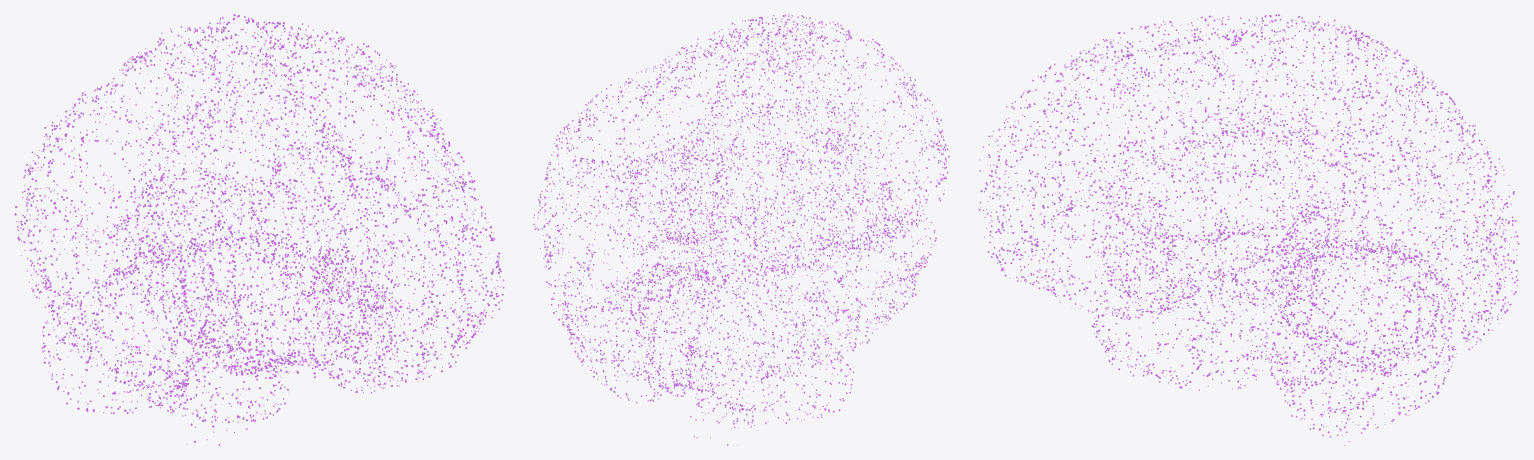
File: brain.glb
3 views of the same model, side by side, from view 1: azimuth 30°, elevation 25°; view 2: azimuth 150°, elevation 25°; view 3: azimuth 270°, elevation 25° (orthographic). The views are drawn at different scales.
Parts seen in each view (by area): view 1: Icosphere.001_Particle_2_0.001, Icosphere.001_Particle_2_0, Icosphere.001_Particle_1_0.001, Icosphere.001_Particle_1_0, Icosphere.001_Particle_2_0.002, Icosphere.001_Particle_1_0.002; view 2: Icosphere.001_Particle_1_0.001, Icosphere.001_Particle_2_0, Icosphere.001_Particle_1_0, Icosphere.001_Particle_2_0.001, Icosphere.001_Particle_2_0.002, Icosphere.001_Particle_1_0.002; view 3: Icosphere.001_Particle_2_0, Icosphere.001_Particle_1_0, Icosphere.001_Particle_2_0.001, Icosphere.001_Particle_1_0.001, Icosphere.001_Particle_2_0.002, Icosphere.001_Particle_1_0.002.
Part boxes in pixels (x1=…): Icosphere.001_Particle_2_0.001: x1=17, y1=21, x2=500, y2=432; Icosphere.001_Particle_2_0: x1=17, y1=17, x2=498, y2=445; Icosphere.001_Particle_1_0.001: x1=15, y1=16, x2=502, y2=427; Icosphere.001_Particle_1_0: x1=17, y1=16, x2=504, y2=444; Icosphere.001_Particle_2_0.002: x1=14, y1=14, x2=500, y2=439; Icosphere.001_Particle_1_0.002: x1=18, y1=15, x2=504, y2=432; Icosphere.001_Particle_1_0.001: x1=539, y1=15, x2=948, y2=428; Icosphere.001_Particle_2_0: x1=533, y1=16, x2=949, y2=445; Icosphere.001_Particle_1_0: x1=534, y1=14, x2=944, y2=445; Icosphere.001_Particle_2_0.001: x1=533, y1=14, x2=946, y2=437; Icosphere.001_Particle_2_0.002: x1=535, y1=16, x2=948, y2=423; Icosphere.001_Particle_1_0.002: x1=534, y1=15, x2=946, y2=437; Icosphere.001_Particle_2_0: x1=984, y1=15, x2=1517, y2=429; Icosphere.001_Particle_1_0: x1=979, y1=14, x2=1518, y2=441; Icosphere.001_Particle_2_0.001: x1=979, y1=16, x2=1518, y2=433; Icosphere.001_Particle_1_0.001: x1=978, y1=17, x2=1517, y2=429; Icosphere.001_Particle_2_0.002: x1=986, y1=14, x2=1516, y2=437; Icosphere.001_Particle_1_0.002: x1=979, y1=14, x2=1519, y2=445.
Size of the model in its own units: 1.05 by 1.1 by 1.31.
